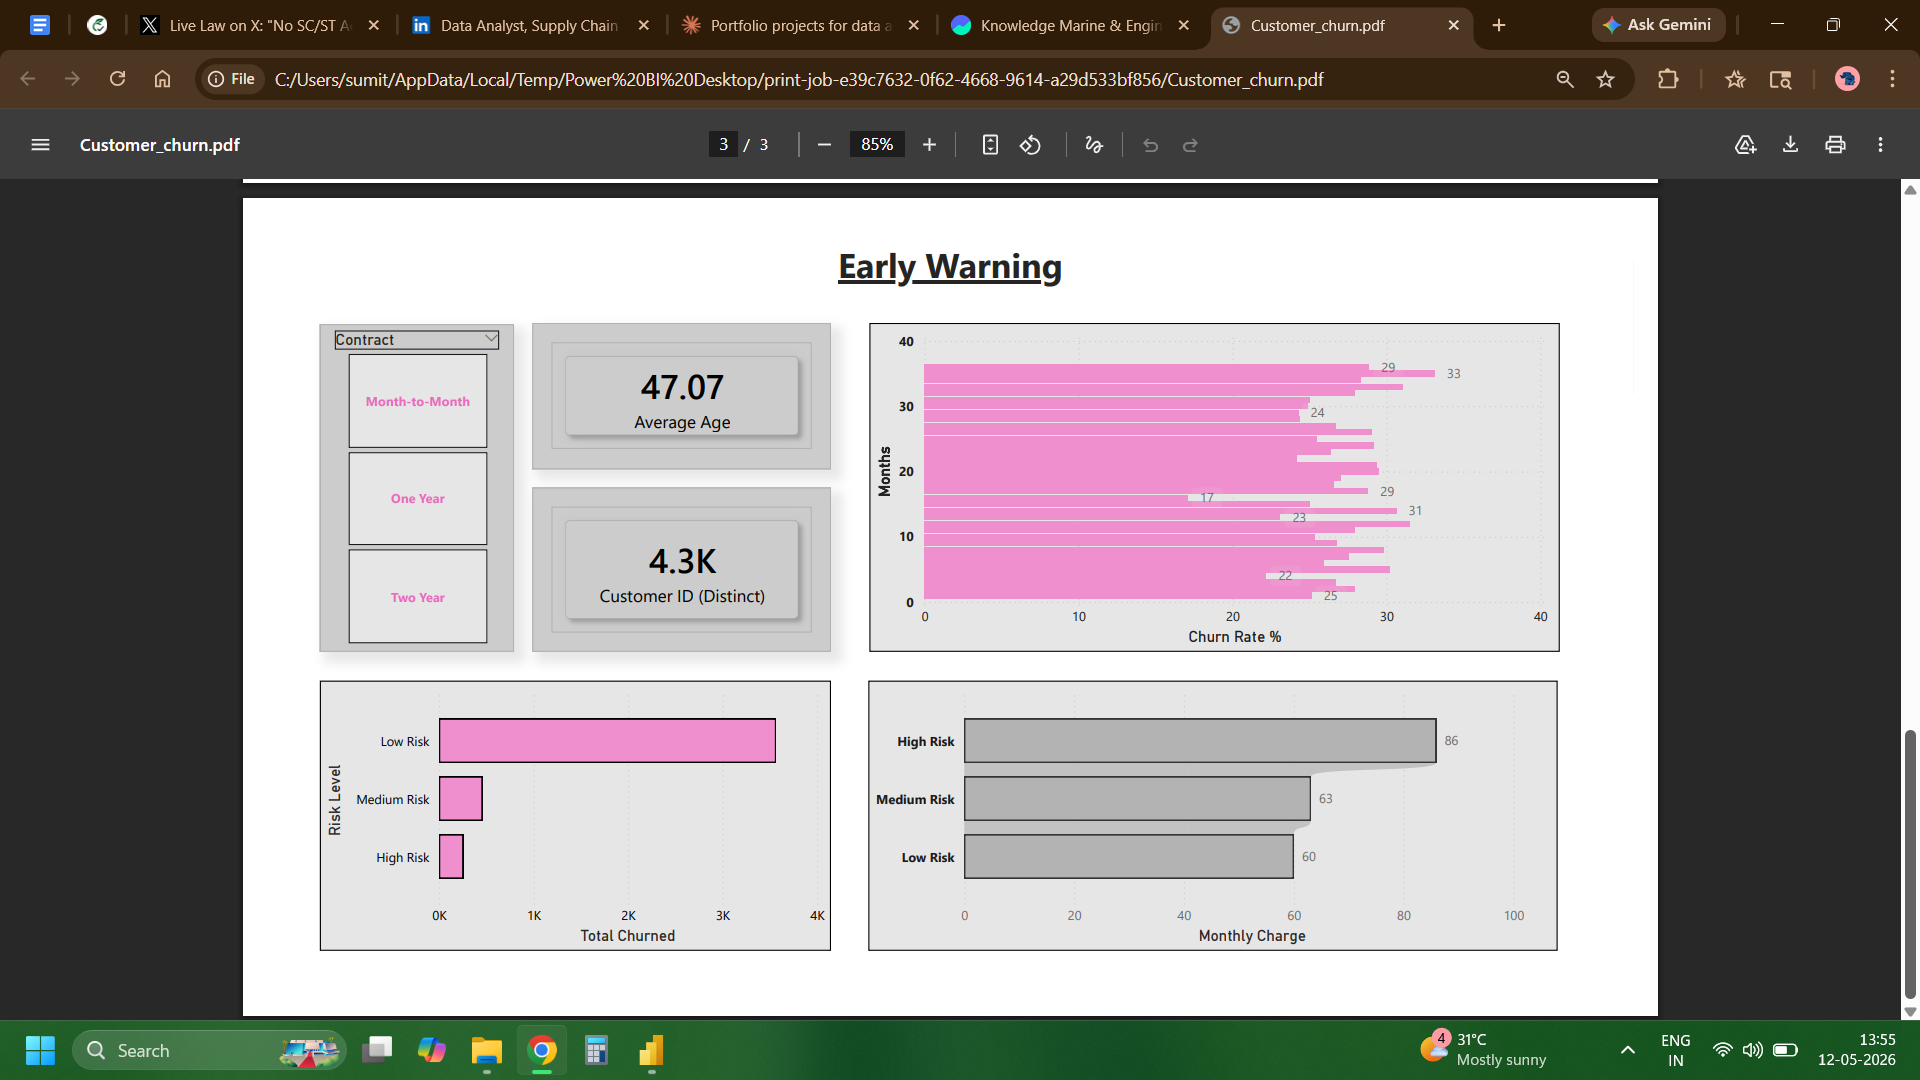

The page's visual inventory and layout, read from the dashboard file:
{"tool":"powerbi","page":{"name":"Early Warning","canvas":[1280,720],"ordinal":2},"visuals":[{"type":"cardVisual","fields":{"Data":["Count(early_warning.customer_id)"]},"box":[248.2,248.2,280,154.1],"z":0},{"type":"barChart","fields":{"Category":["early_warning.risk_level"],"Y":["Count(early_warning.customer_id)"]},"box":[48.9,429.2,479.4,253.1],"z":1000},{"type":"slicer","fields":{"Values":["churn_data.contract"]},"box":[49.4,94.7,181.1,307.4],"z":2000},{"type":"barChart","fields":{"Category":["prod_churn.tenure_in_months"],"Y":["churn_data.Churn Rate %"]},"box":[563.7,94.2,646.9,308.2],"z":3000},{"type":"barChart","fields":{"Y":["Avg(prod_churn.monthly_charge)"],"Category":["early_warning.risk_level"]},"box":[562.5,429.2,646.9,253.1],"z":4000},{"type":"cardVisual","fields":{"Data":["Avg(prod_churn.age)"]},"box":[248.2,94.2,280,137],"z":5000},{"type":"textbox","box":[490.2,12.2,299.6,62.4],"z":6000}]}

Visuals, with their boxes on the page's 1280x720 design canvas (x1, y1, x2, y2). These are canvas units, not pixel positions in the 1920x1080 screenshot, which may show the page scaled, cropped or inside an application window:
cardVisual - Count(early_warning.customer_id): (248,248,528,402)
barChart - early_warning.risk_level x Count(early_warning.customer_id): (49,429,528,682)
slicer - churn_data.contract: (49,95,230,402)
barChart - prod_churn.tenure_in_months x churn_data.Churn Rate %: (564,94,1211,402)
barChart - Avg(prod_churn.monthly_charge) x early_warning.risk_level: (562,429,1209,682)
cardVisual - Avg(prod_churn.age): (248,94,528,231)
textbox: (490,12,790,75)
